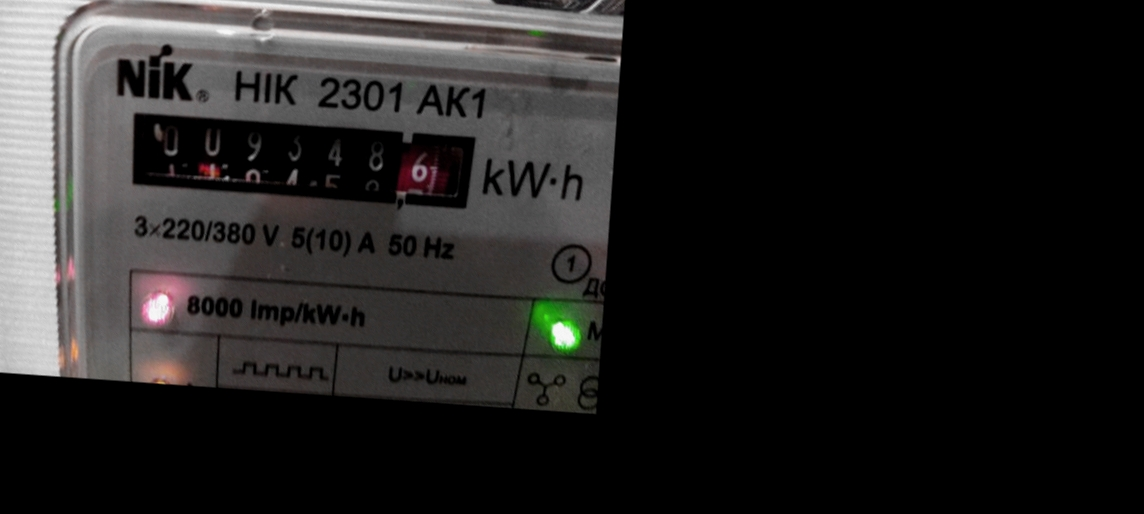0: (200, 123, 223, 160), (159, 122, 181, 158)
3: (282, 129, 306, 163)
4: (322, 132, 345, 171)
6: (408, 148, 432, 184)
8: (365, 137, 387, 173)
9: (243, 127, 263, 162)
screen: (104, 96, 495, 225)
